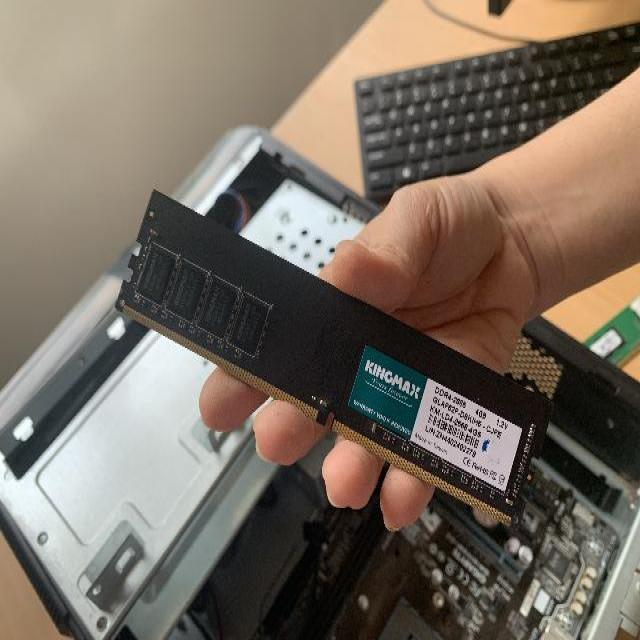RAM: (114, 188, 554, 532)
